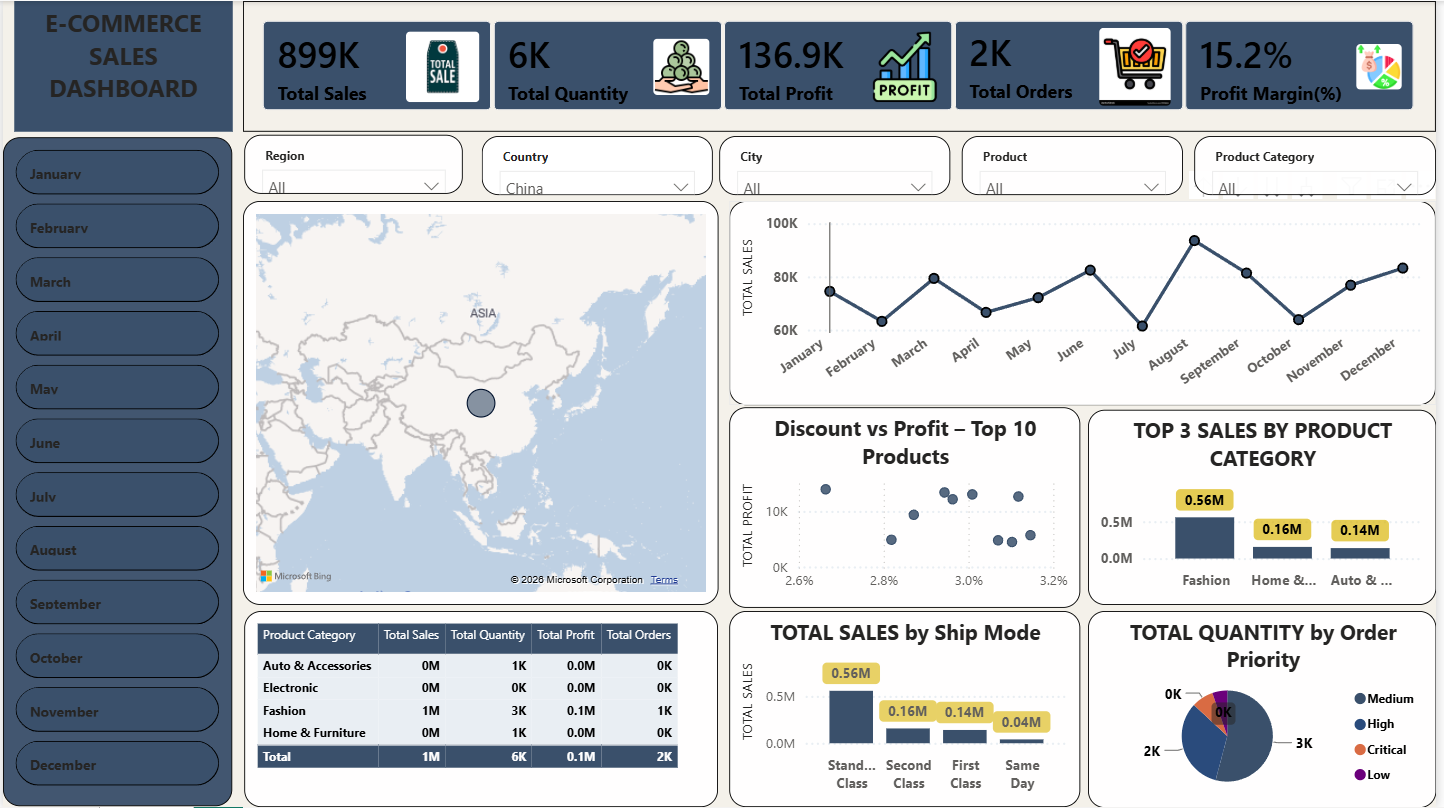

This screenshot's page, from the dashboard's own definition file:
{"tool":"powerbi","page":{"name":"Page 1","canvas":[1280,720],"ordinal":0},"visuals":[{"type":"textbox","box":[9.6,0,194.9,116.6],"z":0},{"type":"advancedSlicerVisual","fields":{"Values":["E-COMMERCE DATA.Order Date.Variation.Date Hierarchy.Month"]},"box":[0,122.1,204.7,597.7],"z":1000},{"type":"slicer","fields":{"Values":["E-COMMERCE DATA.Region"]},"box":[215.6,120,195.5,53],"z":2000},{"type":"slicer","fields":{"Values":["E-COMMERCE DATA.Country"]},"box":[427.5,120.1,206.2,52.9],"z":3000},{"type":"slicer","fields":{"Values":["E-COMMERCE DATA.City"]},"box":[639.5,120.1,206.1,53],"z":4000},{"type":"slicer","fields":{"Values":["E-COMMERCE DATA.Product"]},"box":[856.2,120.1,197.8,52.9],"z":5000},{"type":"columnChart","fields":{"Category":["E-COMMERCE DATA.Ship Mode"],"Y":["E-COMMERCE DATA.TOTAL SALES"]},"box":[649.2,544.7,313.5,175.5],"z":6000},{"type":"pieChart","fields":{"Category":["E-COMMERCE DATA.Order Priority"],"Y":["E-COMMERCE DATA.TOTAL QUANTITY"]},"box":[968.8,544.8,311.5,175.6],"z":7000},{"type":"lineChart","fields":{"Category":["E-COMMERCE DATA.Order Date.Variation.Date Hierarchy.Month","E-COMMERCE DATA.Order Date.Variation.Date Hierarchy.Day"],"Y":["E-COMMERCE DATA.TOTAL SALES"]},"box":[649.2,178.3,631.1,182.5],"z":8000},{"type":"tableEx","fields":{"Values":["E-COMMERCE DATA.Product Category","E-COMMERCE DATA.TOTAL SALES","E-COMMERCE DATA.TOTAL QUANTITY","E-COMMERCE DATA.TOTAL PROFIT","E-COMMERCE DATA.TOTAL ORDERS"]},"box":[215.9,544.7,423.5,175.5],"z":9000},{"type":"clusteredColumnChart","title":"TOP 3 SALES BY PRODUCT CATEGORY ","fields":{"Category":["E-COMMERCE DATA.Product Category"],"Y":["E-COMMERCE DATA.TOTAL SALES"]},"box":[969.3,365.1,310.9,174.3],"z":10000},{"type":"map","fields":{"Category":["E-COMMERCE DATA.Country"],"Size":["CountNonNull(E-COMMERCE DATA.City)"]},"box":[214.5,178.3,424.9,360.8],"z":12000},{"type":"slicer","fields":{"Values":["E-COMMERCE DATA.Product Category"]},"box":[1064.7,120.1,215.9,52.9],"z":13000},{"type":"scatterChart","title":"Discount vs Profit – Top 10 Products","fields":{"Category":["E-COMMERCE DATA.Product"],"X":["E-COMMERCE DATA.AVERAGE DISCOUNT"],"Y":["E-COMMERCE DATA.TOTAL PROFIT"]},"box":[649,362.8,313.3,179],"z":14000},{"type":"cardVisual","fields":{"Data":["E-COMMERCE DATA.TOTAL SALES","E-COMMERCE DATA.TOTAL QUANTITY","E-COMMERCE DATA.TOTAL PROFIT","E-COMMERCE DATA.TOTAL ORDERS","E-COMMERCE DATA.PROFIT MARGIN %"]},"box":[214.4,0,1065.9,116.6],"z":15000}]}

Visuals, with their boxes in screenshot pixels (x1, y1, x2, y2), scaled from the page's 1280x720 canvas onto the 1444x808 screenshot:
textbox: [left=11, top=0, right=231, bottom=131]
advancedSlicerVisual - E-COMMERCE DATA.Order Date.Variation.Date Hierarchy.Month: [left=0, top=137, right=231, bottom=807]
slicer - E-COMMERCE DATA.Region: [left=243, top=135, right=464, bottom=194]
slicer - E-COMMERCE DATA.Country: [left=482, top=135, right=715, bottom=194]
slicer - E-COMMERCE DATA.City: [left=721, top=135, right=954, bottom=194]
slicer - E-COMMERCE DATA.Product: [left=966, top=135, right=1189, bottom=194]
columnChart - E-COMMERCE DATA.Ship Mode x E-COMMERCE DATA.TOTAL SALES: [left=732, top=611, right=1086, bottom=807]
pieChart - E-COMMERCE DATA.Order Priority x E-COMMERCE DATA.TOTAL QUANTITY: [left=1093, top=611, right=1443, bottom=807]
lineChart - E-COMMERCE DATA.Order Date.Variation.Date Hierarchy.Month x E-COMMERCE DATA.Order Date.Variation.Date Hierarchy.Day: [left=732, top=200, right=1443, bottom=405]
tableEx - E-COMMERCE DATA.Product Category x E-COMMERCE DATA.TOTAL SALES: [left=244, top=611, right=721, bottom=807]
"TOP 3 SALES BY PRODUCT CATEGORY " clusteredColumnChart: [left=1093, top=410, right=1443, bottom=605]
map - E-COMMERCE DATA.Country x CountNonNull(E-COMMERCE DATA.City): [left=242, top=200, right=721, bottom=605]
slicer - E-COMMERCE DATA.Product Category: [left=1201, top=135, right=1443, bottom=194]
"Discount vs Profit – Top 10 Products" scatterChart: [left=732, top=407, right=1086, bottom=608]
cardVisual - E-COMMERCE DATA.TOTAL SALES x E-COMMERCE DATA.TOTAL QUANTITY: [left=242, top=0, right=1443, bottom=131]
